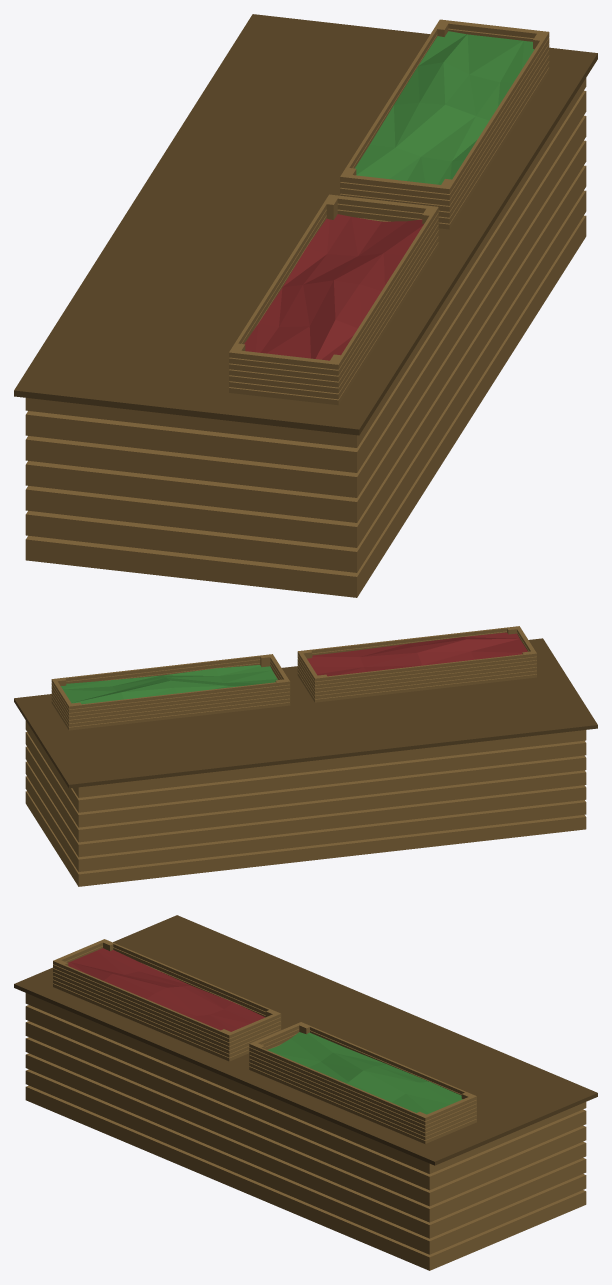
Rendered from TT_Stand_tents.fbx.
3 views of the same model, one above another, from view 1: azimuth 30°, elevation 25°; view 2: azimuth 150°, elevation 25°; view 3: azimuth 270°, elevation 25° (orthographic). The views are drawn at different scales.
Parts seen in each view (by area): view 1: Stand; view 2: Stand; view 3: Stand.
Boxes of the visible parts, box(x1,y1,x2,y2) form: Stand: box(14, 14, 597, 597); Stand: box(14, 626, 597, 886); Stand: box(14, 915, 597, 1270).
Bounding box in the file's own units: 50.37 × 13.39 × 50.37.
